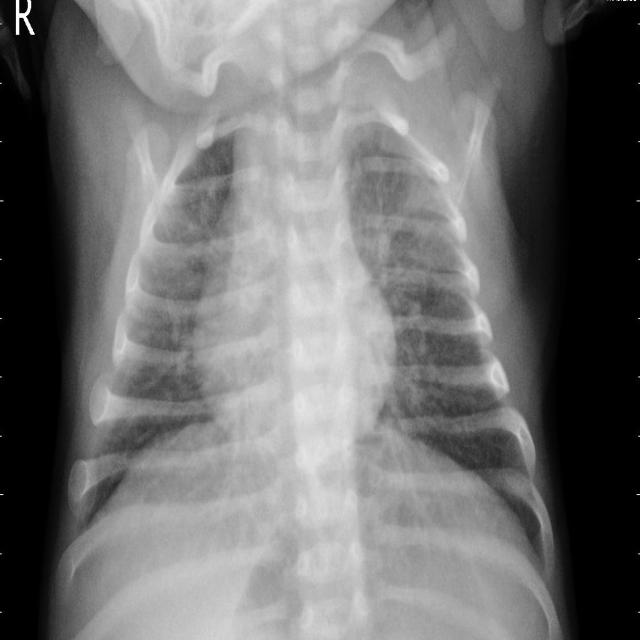low-pneumonia: (348, 131, 463, 332), (131, 162, 222, 365), (385, 332, 469, 440)
